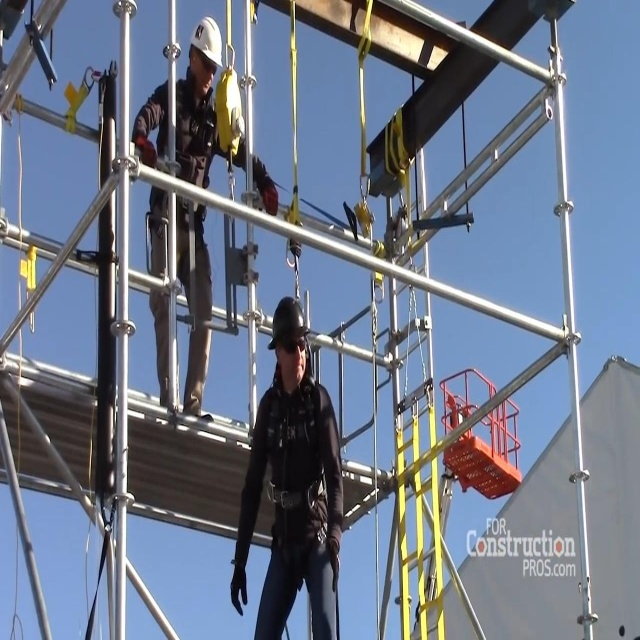Arnes_seguridad: (264, 286, 333, 584), (155, 74, 224, 271)
